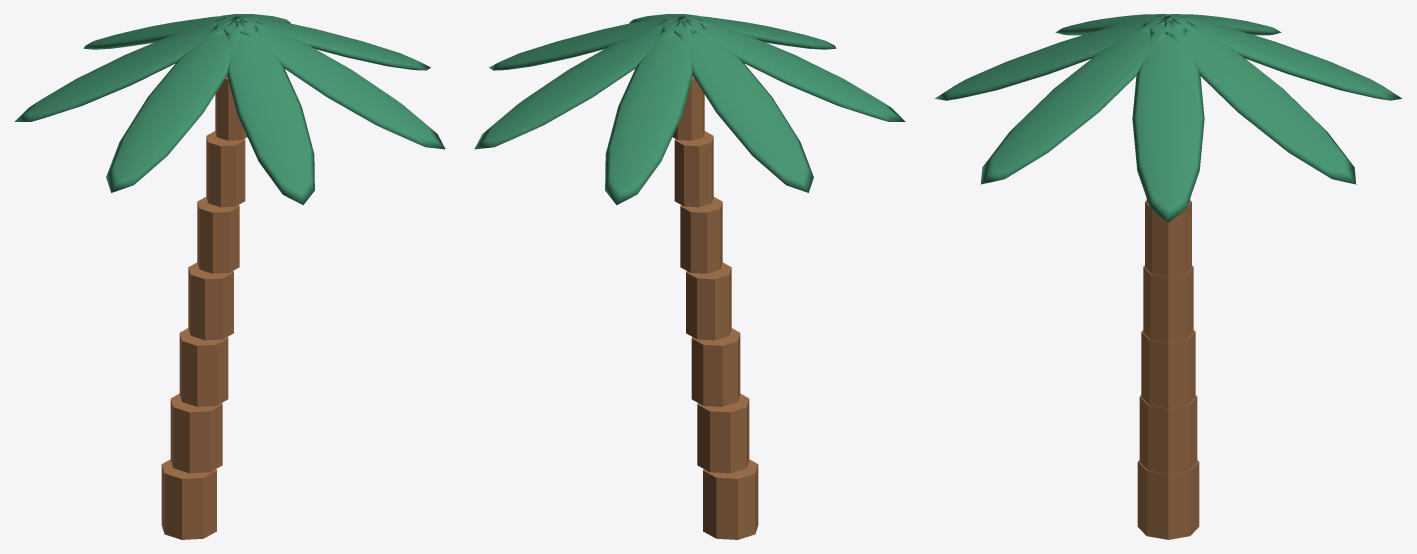
Rendered from palm.glb.
3 views of the same model, side by side, from view 1: azimuth 30°, elevation 25°; view 2: azimuth 150°, elevation 25°; view 3: azimuth 270°, elevation 25° (orthographic). The views are drawn at different scales.
Visible parts, largest first — view 1: Frond5, Frond4, Frond6, Frond3, Seg0, Seg1, Seg2, Seg3, Seg4, Frond0, Seg5, Frond2 (+1 smaller); view 2: Frond2, Frond3, Frond1, Frond4, Seg0, Seg1, Seg2, Seg3, Seg4, Frond0, Seg5, Frond5 (+1 smaller); view 3: Frond0, Frond1, Frond6, Frond2, Frond5, Seg0, Seg1, Seg2, Seg3, Seg4, Frond3, Frond4.
Boxes of the visible parts, bbox=[...] form: Frond5: bbox=[224, 16, 314, 205]; Frond4: bbox=[106, 16, 245, 192]; Frond6: bbox=[233, 17, 445, 149]; Frond3: bbox=[14, 18, 241, 121]; Seg0: bbox=[161, 459, 216, 539]; Seg1: bbox=[170, 393, 222, 473]; Seg2: bbox=[179, 328, 228, 406]; Seg3: bbox=[188, 262, 233, 340]; Seg4: bbox=[197, 197, 239, 273]; Frond0: bbox=[233, 16, 430, 70]; Seg5: bbox=[206, 131, 245, 207]; Frond2: bbox=[83, 15, 242, 49]; Frond2: bbox=[605, 16, 695, 205]; Frond3: bbox=[674, 16, 813, 192]; Frond1: bbox=[474, 17, 686, 149]; Frond4: bbox=[678, 18, 905, 121]; Seg0: bbox=[703, 459, 758, 539]; Seg1: bbox=[697, 393, 749, 473]; Seg2: bbox=[691, 328, 740, 406]; Seg3: bbox=[686, 262, 731, 340]; Seg4: bbox=[680, 197, 722, 273]; Frond0: bbox=[489, 16, 686, 70]; Seg5: bbox=[674, 131, 713, 207]; Frond5: bbox=[677, 15, 836, 49]; Frond0: bbox=[1132, 15, 1204, 222]; Frond1: bbox=[1164, 16, 1356, 184]; Frond6: bbox=[980, 16, 1172, 184]; Frond2: bbox=[1163, 16, 1401, 100]; Frond5: bbox=[935, 16, 1173, 100]; Seg0: bbox=[1137, 460, 1199, 539]; Seg1: bbox=[1139, 395, 1197, 474]; Seg2: bbox=[1141, 330, 1195, 408]; Seg3: bbox=[1143, 265, 1193, 342]; Seg4: bbox=[1145, 200, 1191, 277]; Frond3: bbox=[1157, 14, 1281, 35]; Frond4: bbox=[1055, 14, 1179, 35].
Size of the model in its own units: 2.53 by 3.27 by 2.59.
